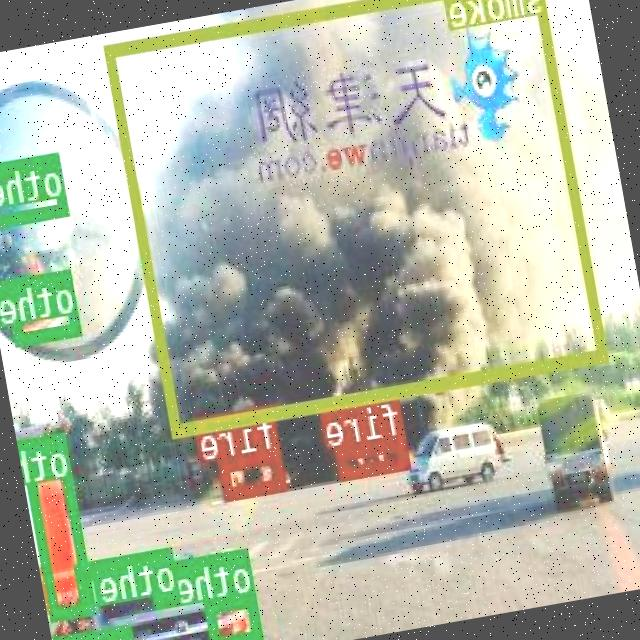fire: (220, 448, 286, 498), (338, 434, 411, 477)
smoke: (106, 0, 610, 433)
